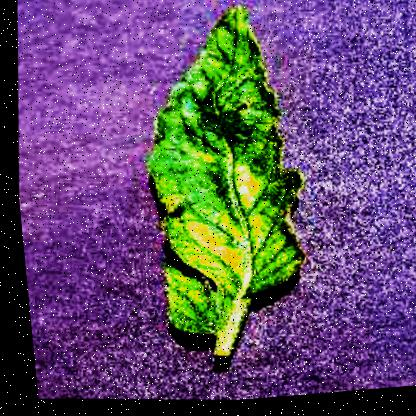Virus: (86, 0, 341, 400)
